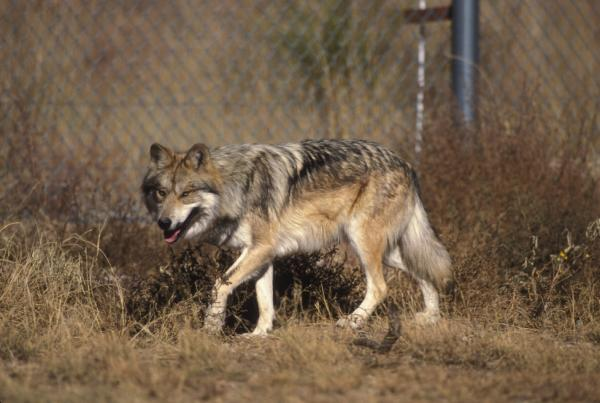Lobo: (128, 133, 455, 338)
